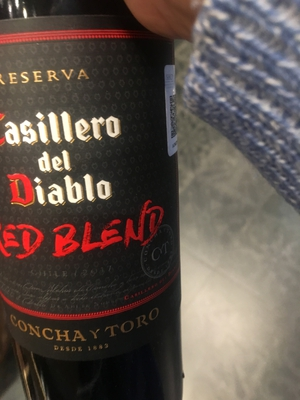casillero del diablo red blend: (1, 15, 194, 400)
